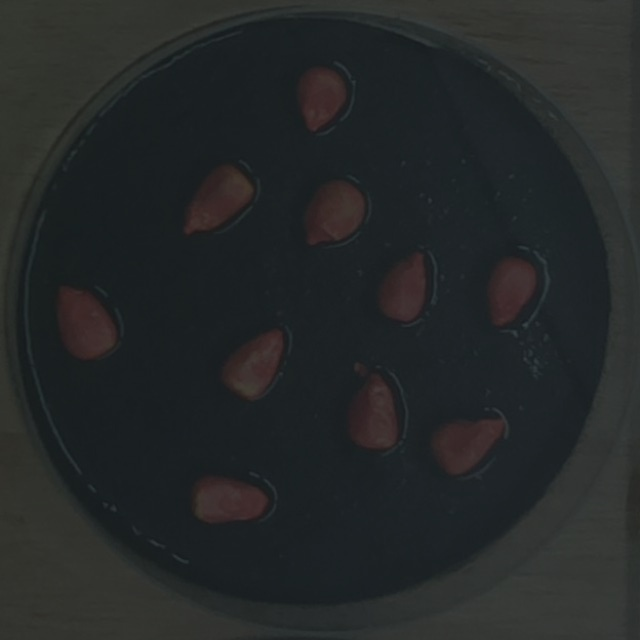Zea mays: (176, 152, 262, 244), (421, 404, 514, 485), (212, 318, 292, 407), (47, 273, 124, 365), (295, 169, 374, 254), (338, 358, 405, 458), (181, 465, 277, 530), (287, 56, 358, 141), (480, 245, 545, 337), (368, 241, 434, 330)
